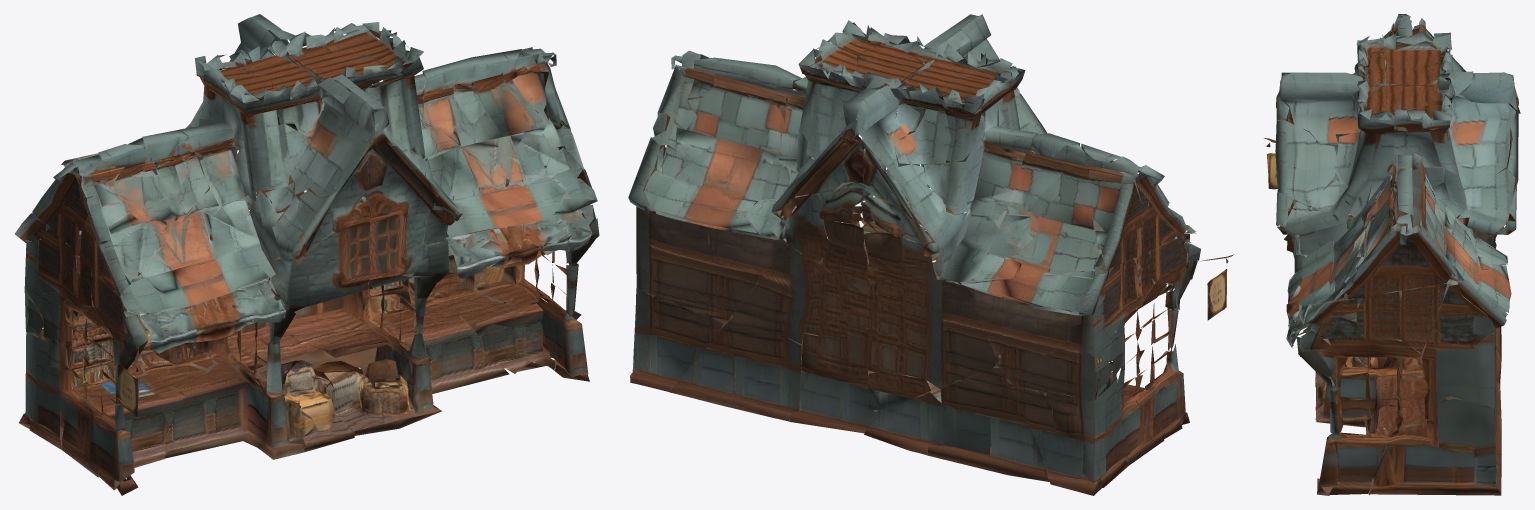
The model's file is mesh_hearthmarket_stalls_a.glb.
The picture shows the model from 3 angles, left to right: view 1: azimuth 30°, elevation 25°; view 2: azimuth 150°, elevation 25°; view 3: azimuth 270°, elevation 25°; orthographic projection. The views are drawn at different scales.
Visible parts, largest first — view 1: mesh_hearthmarket_stalls_a__mesh_hearthmarket_stalls_a__Mesh; view 2: mesh_hearthmarket_stalls_a__mesh_hearthmarket_stalls_a__Mesh; view 3: mesh_hearthmarket_stalls_a__mesh_hearthmarket_stalls_a__Mesh.
Boxes of the visible parts, x1,y1,x2,y2 form: mesh_hearthmarket_stalls_a__mesh_hearthmarket_stalls_a__Mesh: (15,14,599,495); mesh_hearthmarket_stalls_a__mesh_hearthmarket_stalls_a__Mesh: (628,14,1233,495); mesh_hearthmarket_stalls_a__mesh_hearthmarket_stalls_a__Mesh: (1264,14,1520,495).
Size of the model in its own units: 24 by 16.08 by 11.69.
1 material, 1 textured.
